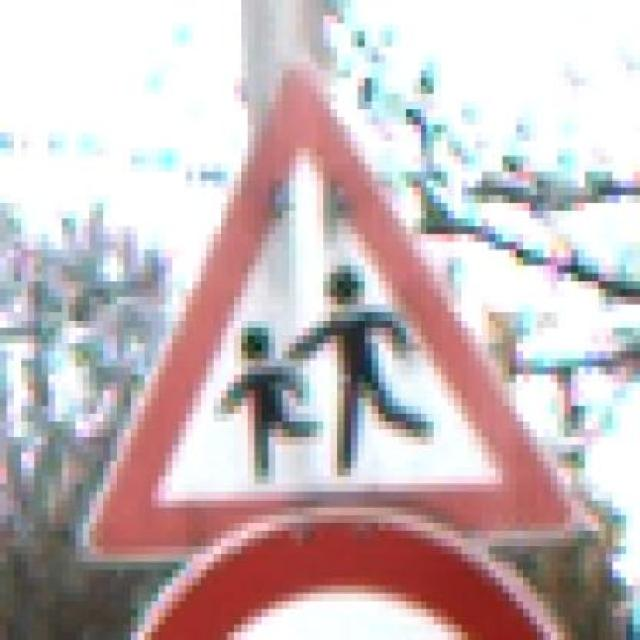Beware of children: (72, 64, 590, 571)
